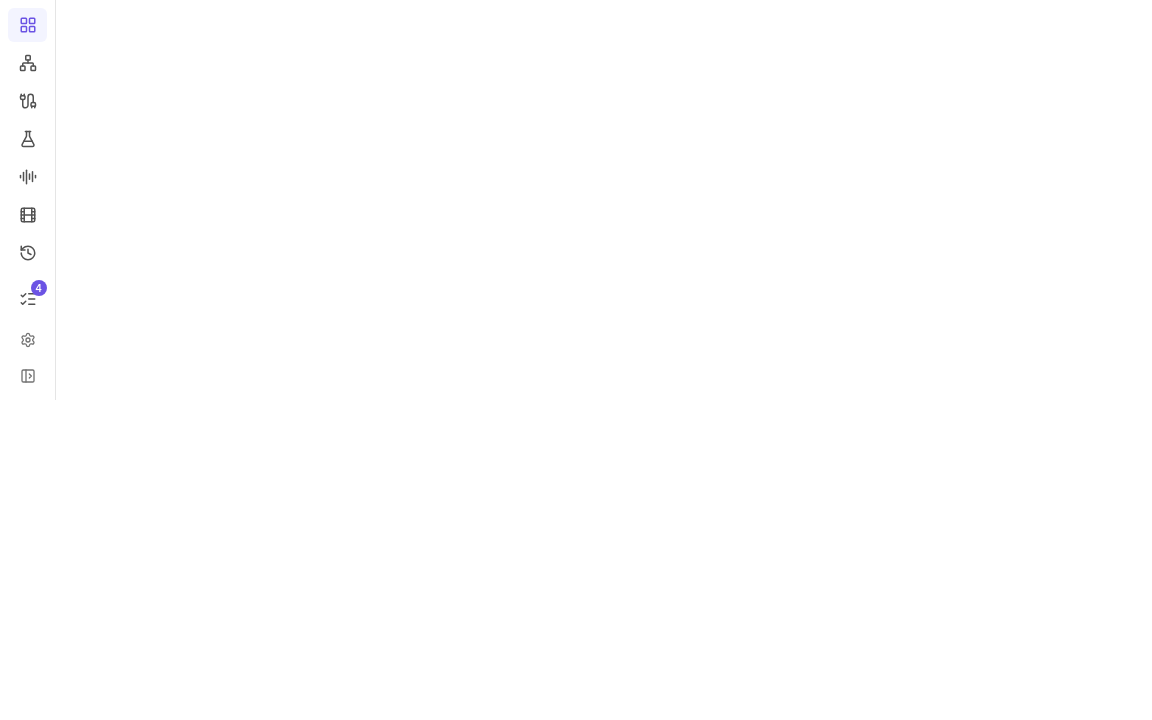
Test: the setup checklist › is a button beside the icons-only sidebar, showing the steps when pressed
The width and height of the screenshot is (1152, 720).
Expected: the element "Set up your show" is not shown
Click the button named "Set up your show: 2 of 6 done": [28, 299] box [10,282,44,316]
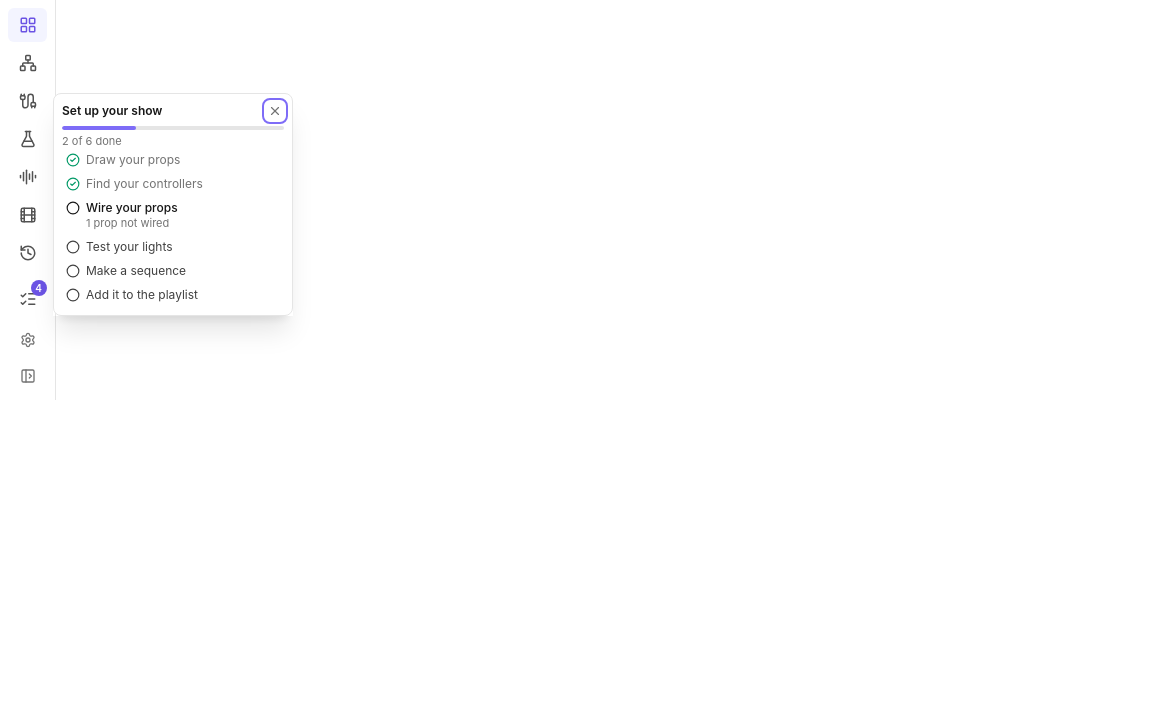
Click the button "Wire your props 1 prop not wired": [173, 216] box [62,196,284,235]
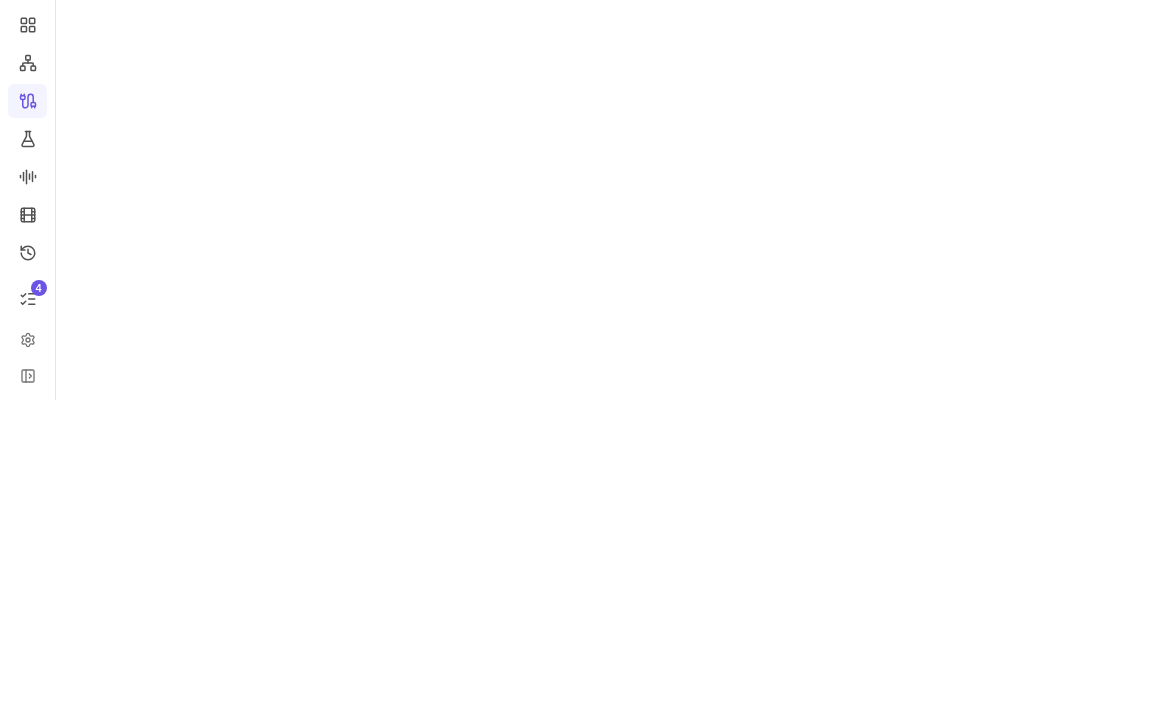
Result: the heading "Set up your show" is gone
Click the button named "Set up your show: 2 of 6 done": [28, 299] box [10,282,44,316]
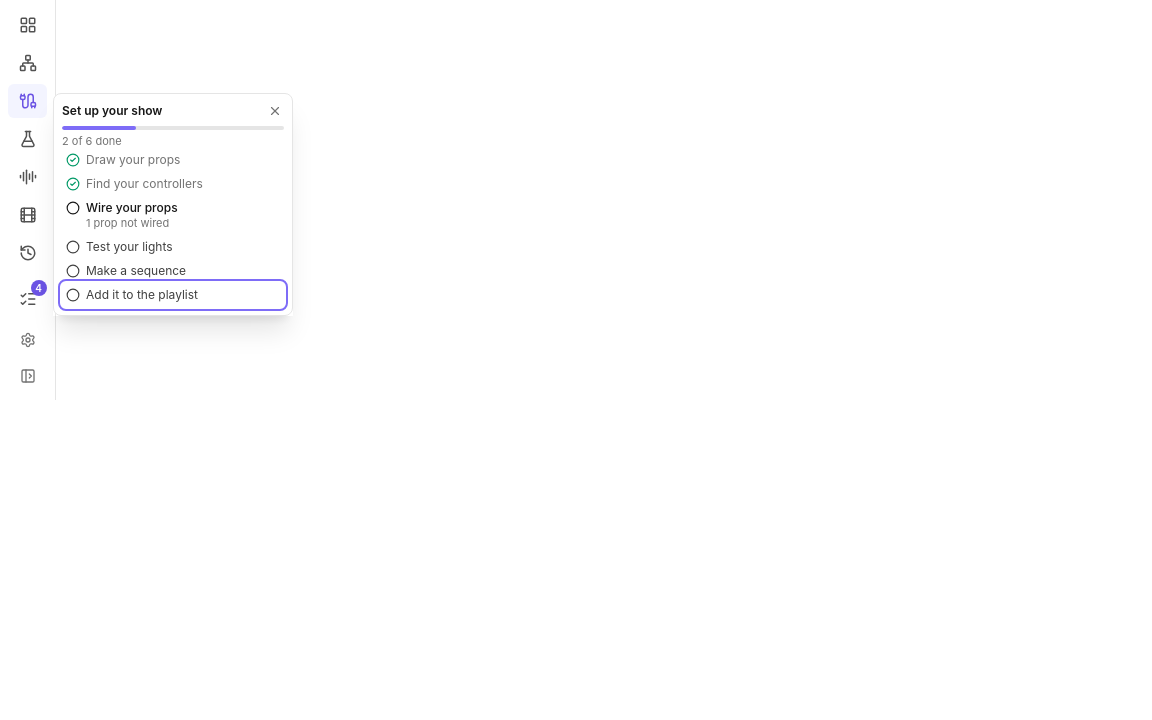
Press Tab
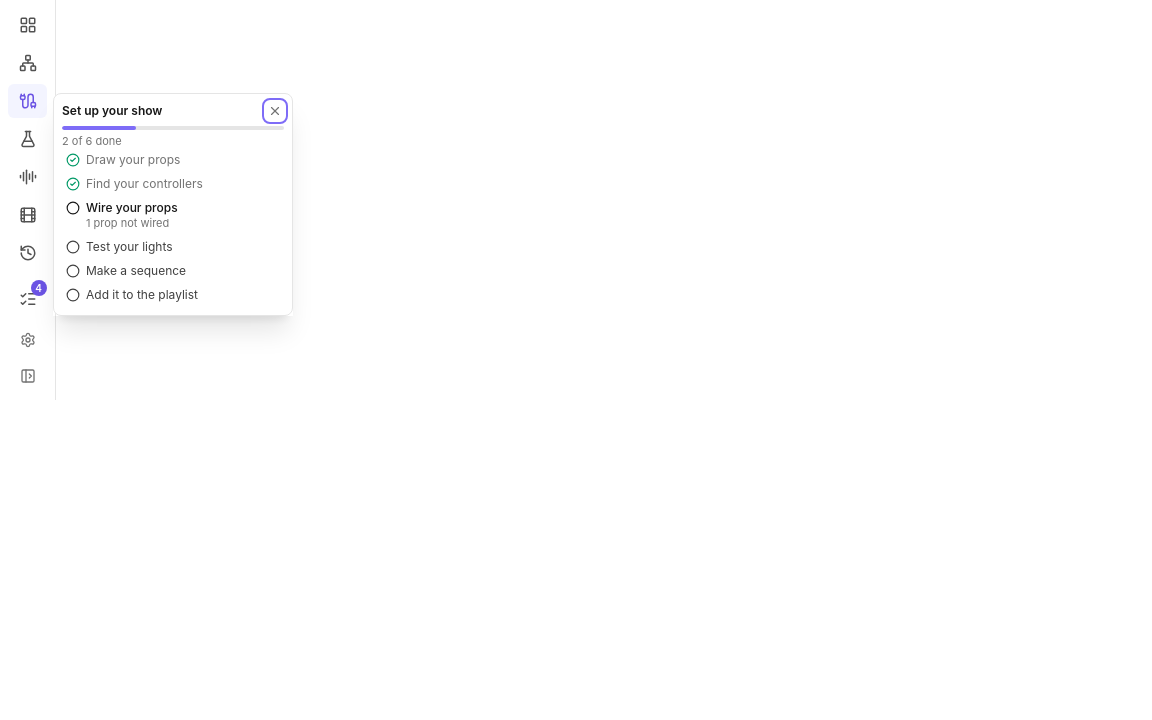
Press Escape
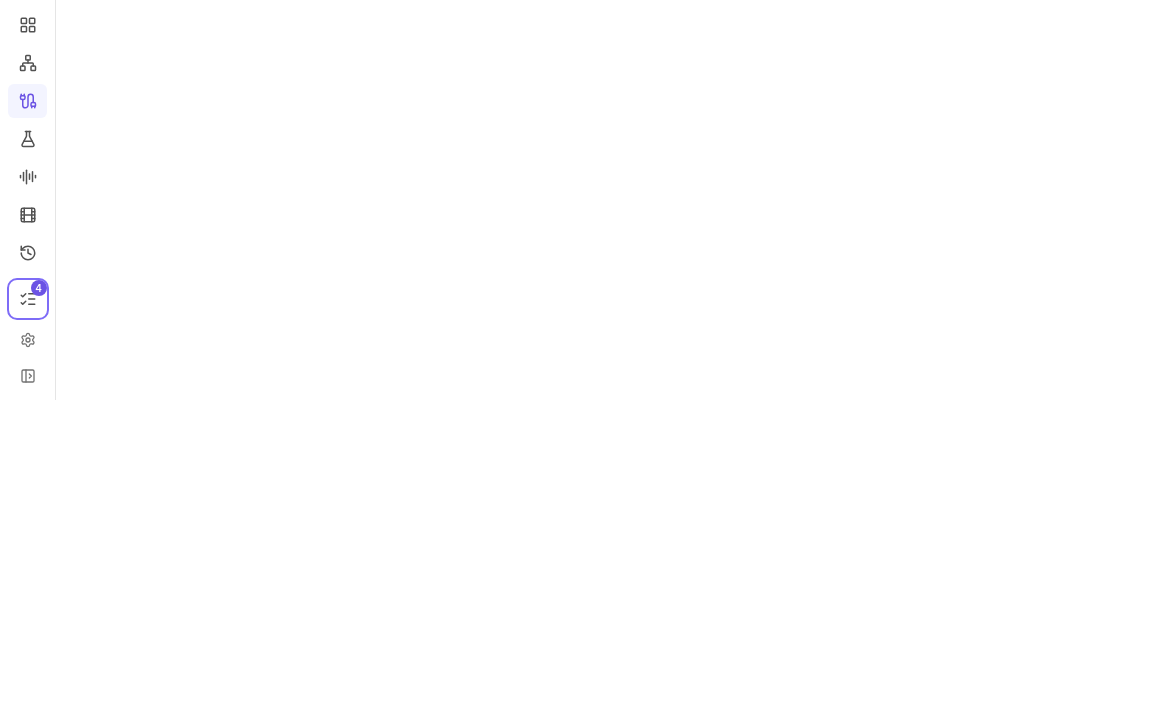
Result: the heading "Set up your show" is gone
